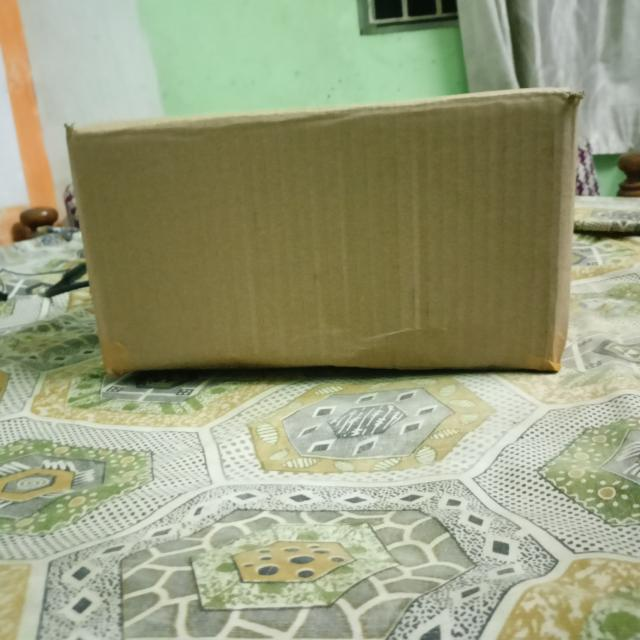box: (61, 93, 566, 371)
